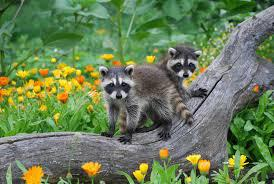raccoon: (90, 57, 198, 146), (151, 41, 210, 116)
